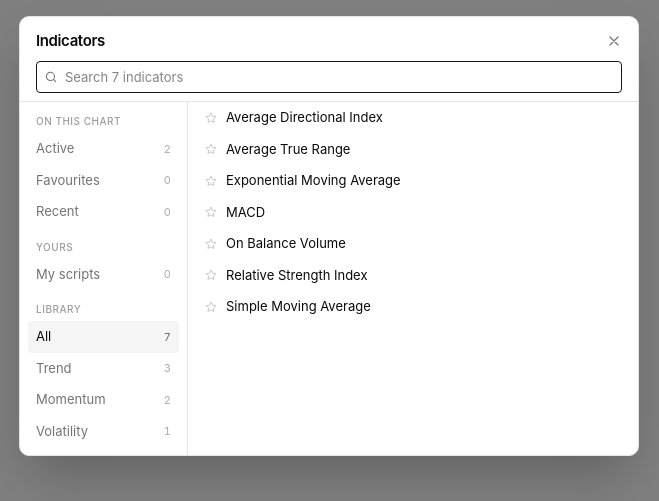
Scenario: IndicatorPickerDialog › filters to one category and sorts it alphabetically
The width and height of the screenshot is (659, 501).
Click the button with aria-label "Trend, 3 indicators" at (104, 368), box [28, 352, 179, 384]
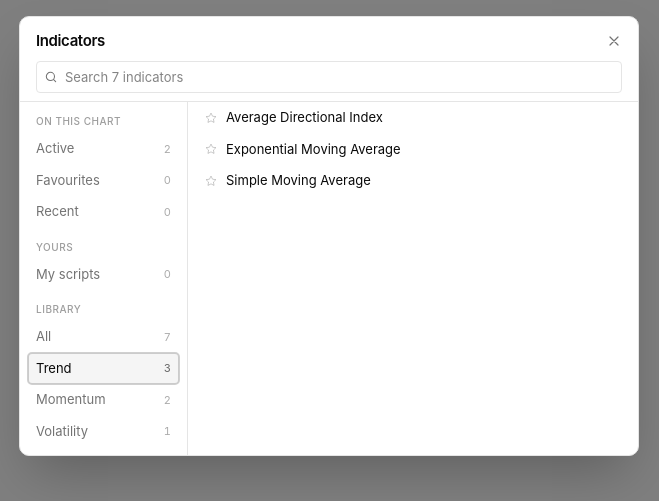
Expected: the elements titled "Add " read "Average Directional Index", "Exponential Moving Average", "Simple Moving Average", in this order, [226, 102, 583, 134]; [226, 134, 583, 165]; [226, 165, 583, 196]
